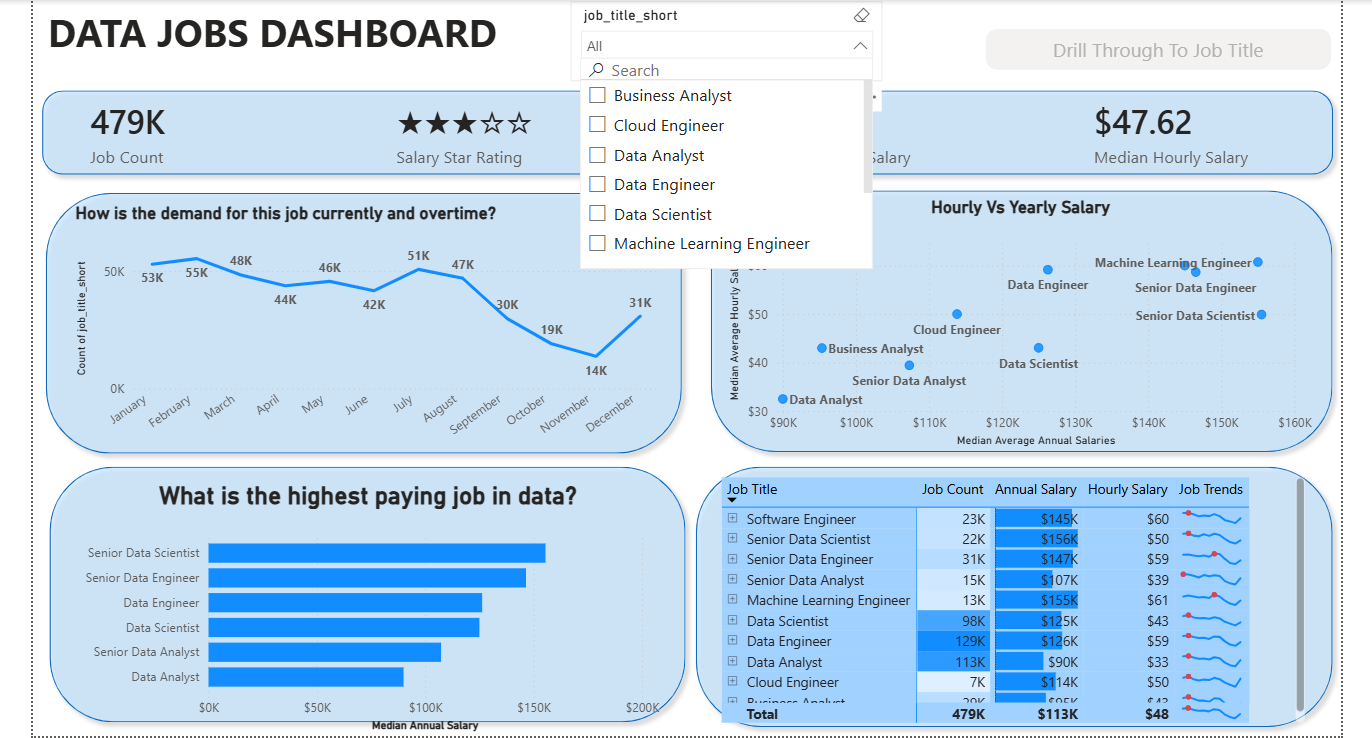

Layout of this report page (visuals, bound fields, positions):
{"tool":"powerbi","page":{"name":"Data Jobs Dashboard","canvas":[1280,720],"ordinal":0},"visuals":[{"type":"group","id":"g1","title":"Background","box":[0,79.5,1280.3,640.8],"z":0},{"type":"textbox","box":[9.8,1.8,478.1,67.3],"z":1000},{"type":"cardVisual","fields":{"Data":["CountNonNull(job_postings_flat.job_title_short)"]},"box":[26.9,76.7,272,106],"z":2000},{"type":"cardVisual","fields":{"Data":["Table.Median of salary_year_avg star rating"]},"box":[326.5,76.7,272,106],"z":3000},{"type":"cardVisual","fields":{"Data":["Median(job_postings_flat.salary_year_avg)"]},"box":[676.2,76.7,272,106],"z":4000},{"type":"cardVisual","fields":{"Data":["Median(job_postings_flat.salary_hour_avg)"]},"box":[1008.8,76.7,272,106],"z":5000},{"type":"lineChart","title":"How is the demand for this job currently and overtime?","fields":{"Category":["job_postings_flat.job_posted_date.Variation.Date Hierarchy.Month"],"Y":["CountNonNull(job_postings_flat.job_title_short)"]},"box":[36.7,198.1,580,250],"z":6000},{"type":"pivotTable","fields":{"Rows":["job_postings_flat.job_title_short","job_postings_flat.job_posted_date.Variation.Date Hierarchy.Quarter"],"Values":["CountNonNull(job_postings_flat.job_title_short)","Median(job_postings_flat.salary_year_avg)","Median(job_postings_flat.salary_hour_avg)","SparklineData(CountNonNull(job_postings_flat.job_title_short)_[job_postings_flat.job_posted_date.Variation.Date Hierarch"]},"box":[668.9,462.2,580,250],"z":7000},{"type":"scatterChart","title":"Hourly Vs Yearly Salary","fields":{"Category":["job_postings_flat.job_title_short"],"X":["Median(job_postings_flat.salary_year_avg)"],"Y":["Median(job_postings_flat.salary_hour_avg)"]},"box":[676.2,192,580,250],"z":8000},{"type":"barChart","title":"What is the highest paying job in data?","fields":{"Category":["job_postings_flat.job_title_short"],"Y":["Median(job_postings_flat.salary_year_avg)"]},"box":[30.6,462.2,580,250],"z":9000},{"type":"slicer","title":"Select a Job Here","fields":{"Values":["job_postings_flat.job_title_short"]},"box":[525.9,1.4,306.1,77.9],"z":10000},{"type":"shape","box":[3.5,179.8,640,273],"z":10000,"group":"g1"},{"type":"actionButton","box":[932.2,27.8,338.1,40.3],"z":11000},{"type":"shape","box":[654.2,177.3,626,273.9],"z":11000,"group":"g1"},{"type":"shape","box":[7.3,447.6,640,268],"z":12000,"group":"g1"},{"type":"shape","box":[639.2,447.3,640.8,272.7],"z":13000,"group":"g1"},{"type":"shape","box":[0,79.5,612,100.3],"z":14000,"group":"g1"},{"type":"shape","box":[668.9,79.5,612,100.3],"z":15000,"group":"g1"}]}

Visuals, with their boxes on the page's 1280x720 design canvas (x1, y1, x2, y2). These are canvas units, not pixel positions in the 1372x738 screenshot, which may show the page scaled, cropped or inside an application window:
"Background" group: select_region(0, 80, 1280, 720)
textbox: select_region(10, 2, 488, 69)
cardVisual - CountNonNull(job_postings_flat.job_title_short): select_region(27, 77, 299, 183)
cardVisual - Table.Median of salary_year_avg star rating: select_region(326, 77, 598, 183)
cardVisual - Median(job_postings_flat.salary_year_avg): select_region(676, 77, 948, 183)
cardVisual - Median(job_postings_flat.salary_hour_avg): select_region(1009, 77, 1281, 183)
"How is the demand for this job currently and overtime?" lineChart: select_region(37, 198, 617, 448)
pivotTable - job_postings_flat.job_title_short x job_postings_flat.job_posted_date.Variation.Date Hierarchy.Quarter: select_region(669, 462, 1249, 712)
"Hourly Vs Yearly Salary" scatterChart: select_region(676, 192, 1256, 442)
"What is the highest paying job in data?" barChart: select_region(31, 462, 611, 712)
"Select a Job Here" slicer: select_region(526, 1, 832, 79)
shape: select_region(4, 180, 644, 453)
actionButton: select_region(932, 28, 1270, 68)
shape: select_region(654, 177, 1280, 451)
shape: select_region(7, 448, 647, 716)
shape: select_region(639, 447, 1280, 720)
shape: select_region(0, 80, 612, 180)
shape: select_region(669, 80, 1281, 180)
